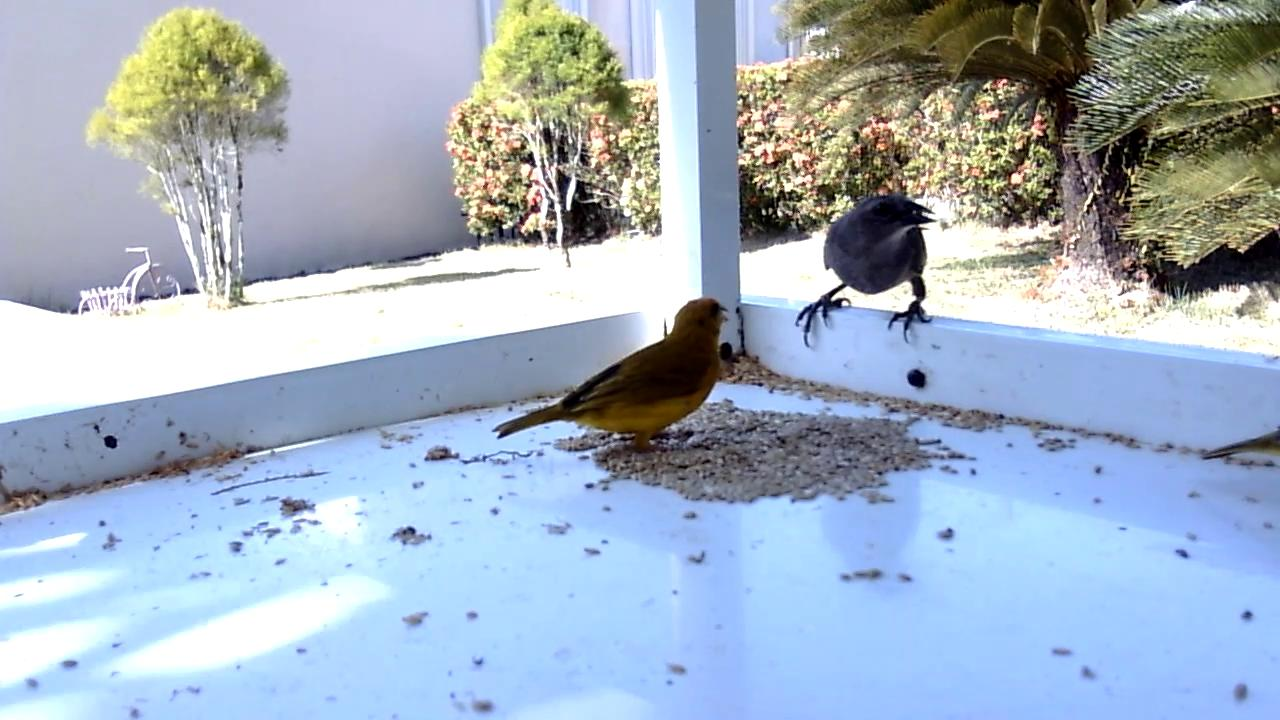canario_do_amazonas: (491, 296, 732, 453)
chupim: (794, 195, 939, 350)
